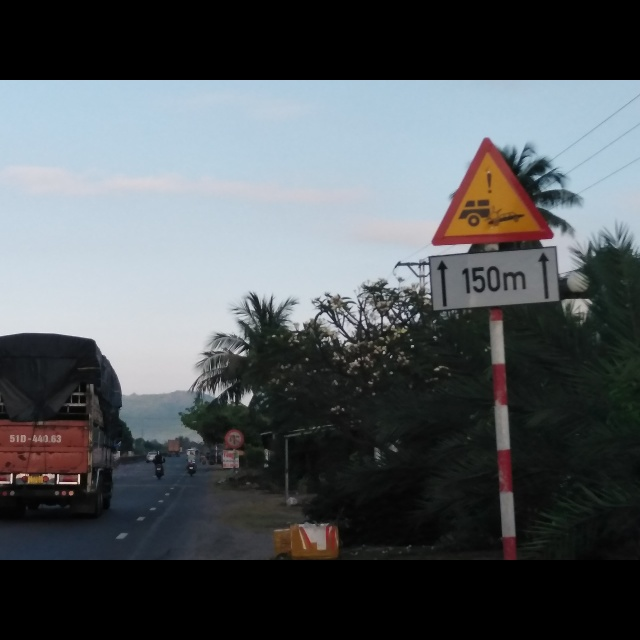Đoạn đường hay xảy ra tai nạn: (428, 135, 552, 247)
